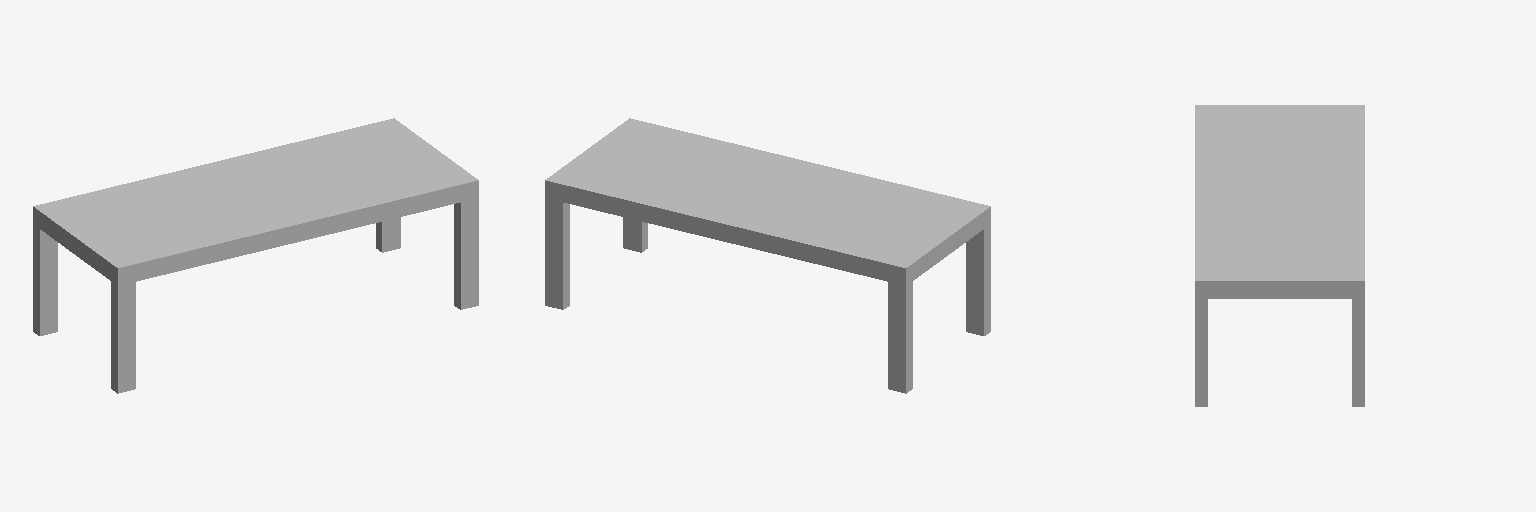
File: TableBasic.obj
The picture shows the model from 3 angles: view 1: azimuth 30°, elevation 25°; view 2: azimuth 150°, elevation 25°; view 3: azimuth 270°, elevation 25°; orthographic projection.
Size of the model in its own units: 8 by 2.65 by 3.25.